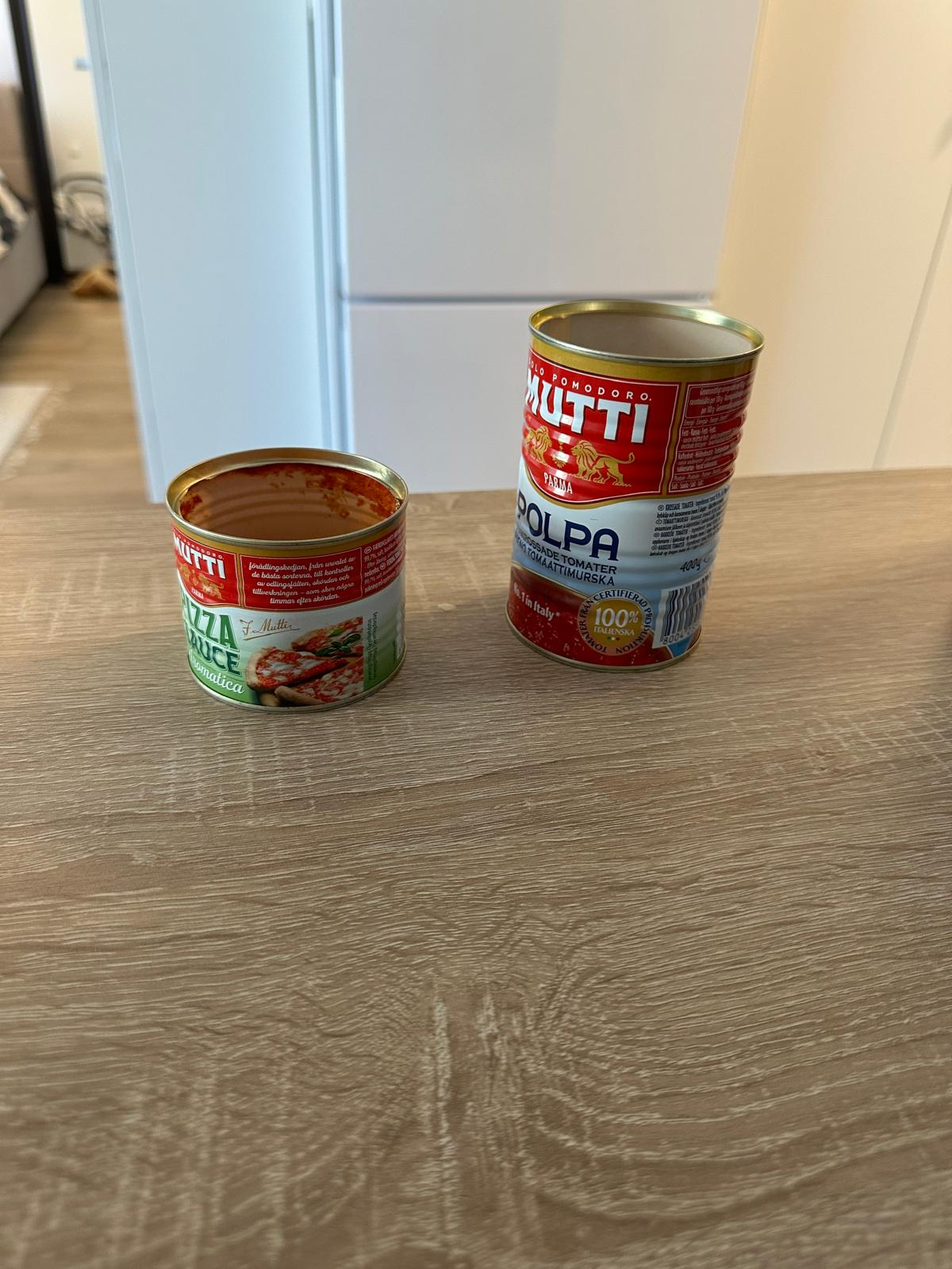Konservburk: (504, 299, 765, 673), (164, 446, 409, 715)
